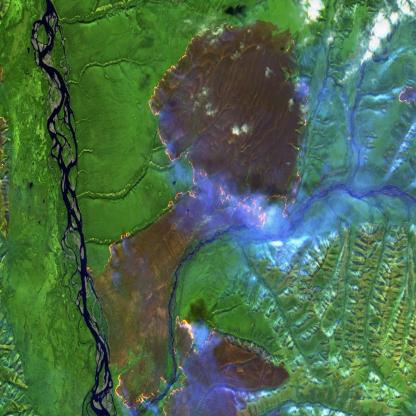fire: (80, 17, 311, 416), (394, 78, 416, 116)
